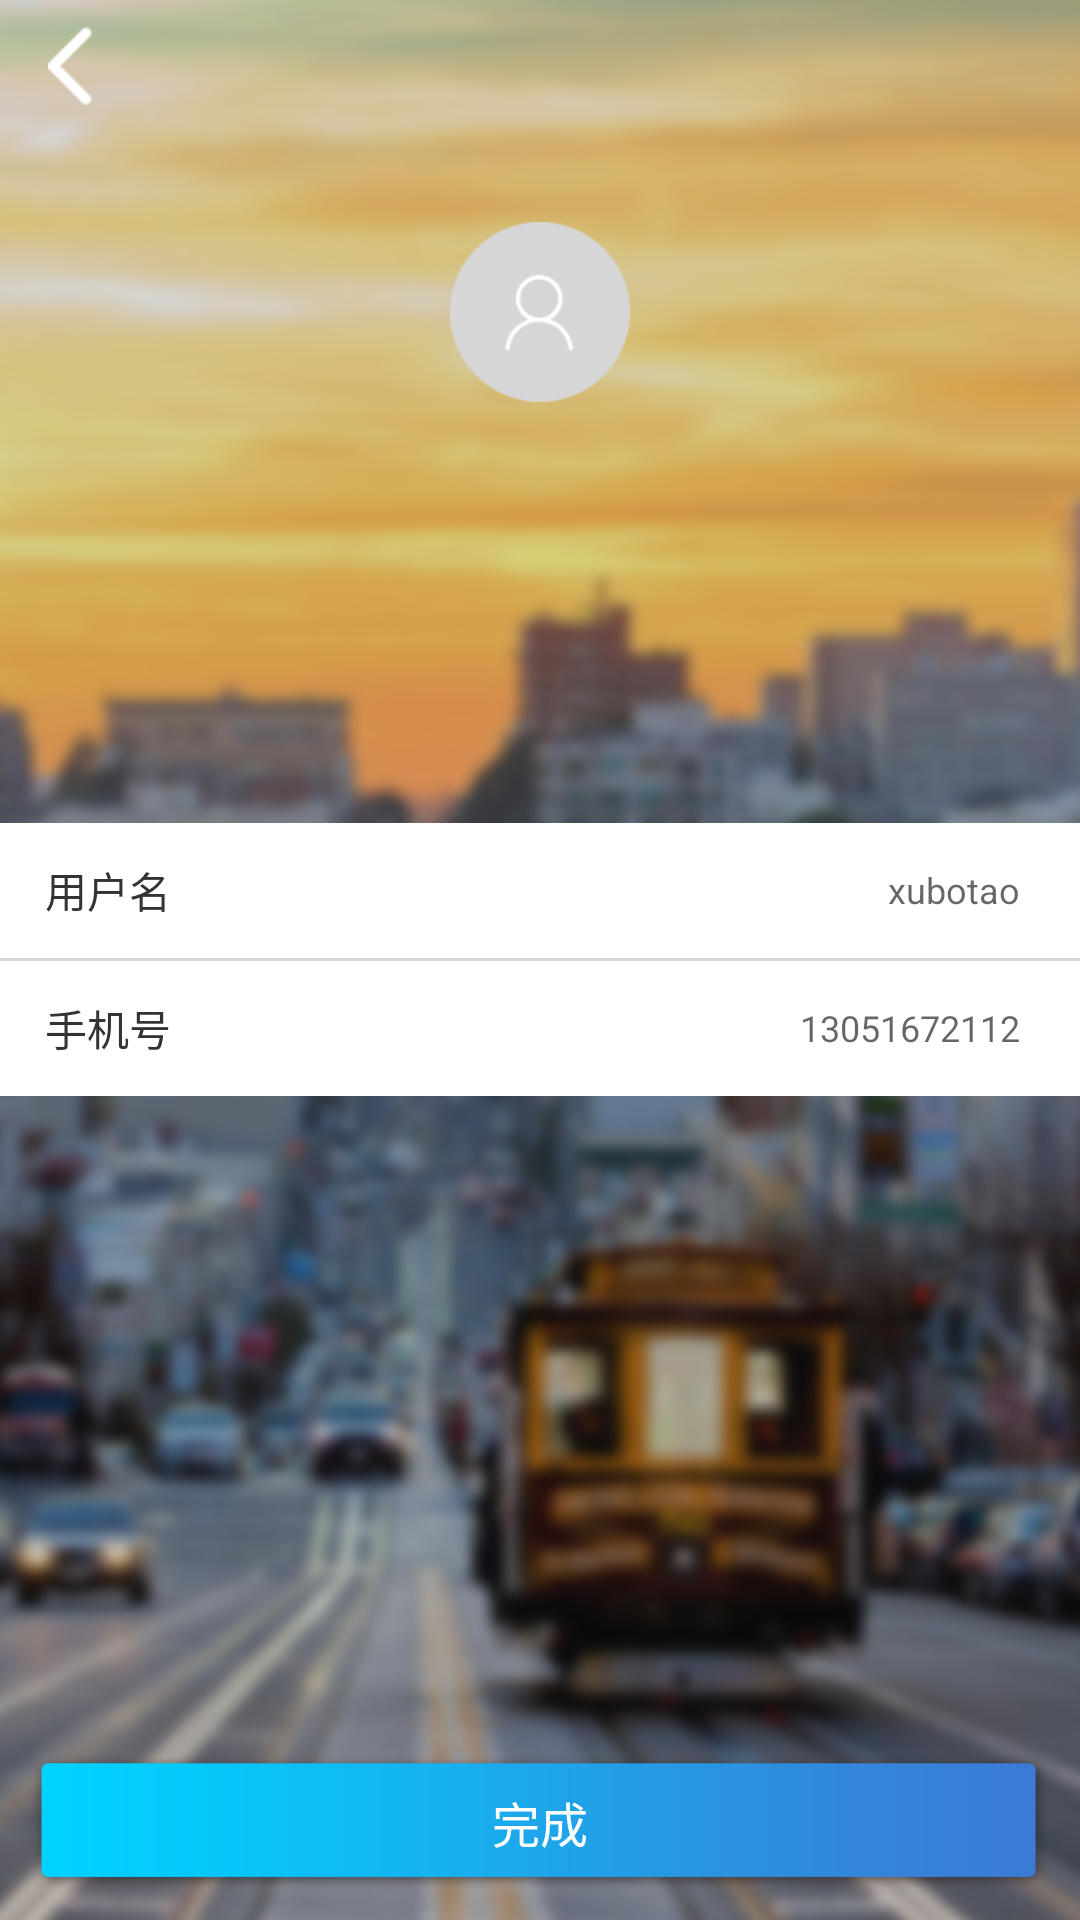

Named icons in this screenshot (1080w x 1920h) and their bounding boxes, Rect(x1, y1, x2, y2):
back: Rect(48, 27, 92, 105)
